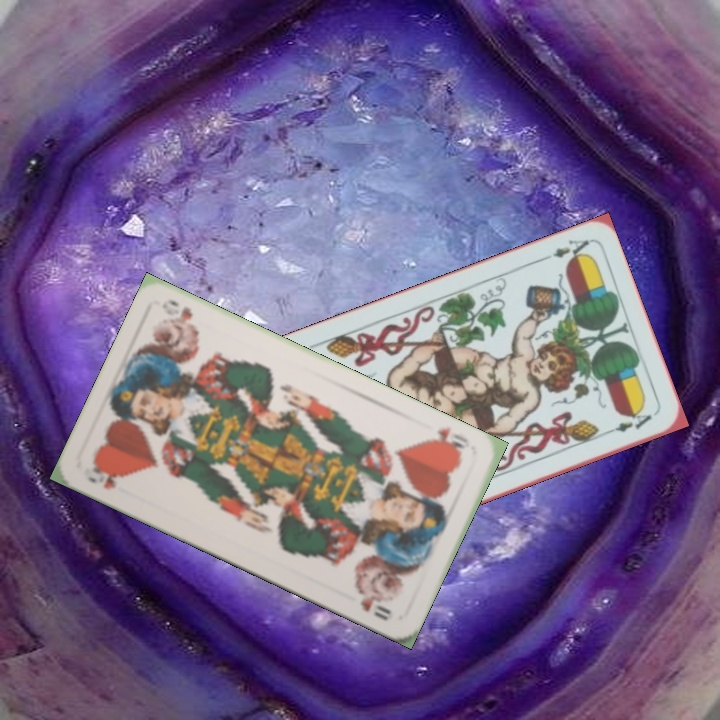EA: (535, 235, 592, 265)
HO: (423, 422, 472, 458), (82, 459, 127, 492)
